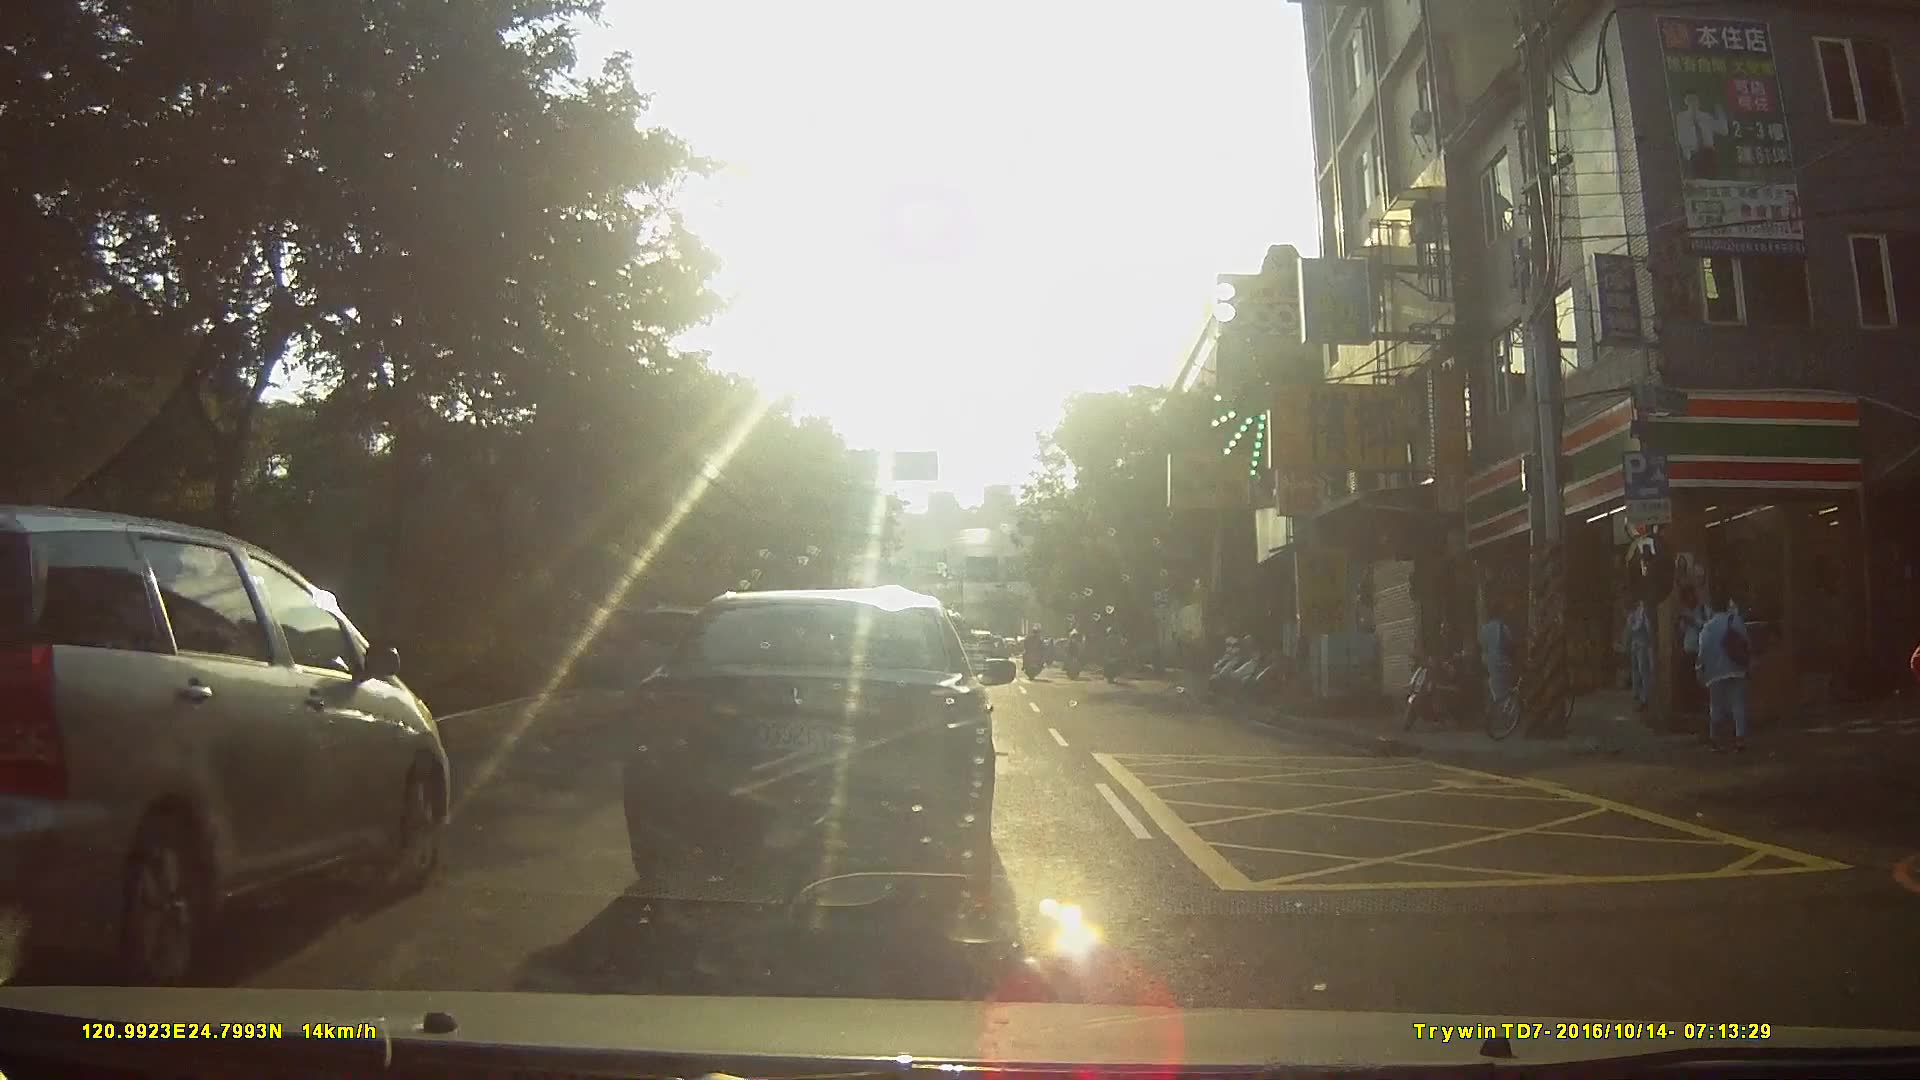pedestrian: (1699, 588, 1758, 752), (1474, 604, 1527, 717), (1683, 572, 1719, 711), (1618, 583, 1655, 708)
rider: (1062, 623, 1090, 684), (1022, 627, 1052, 681), (1100, 624, 1125, 688)
vehicle: (1, 515, 494, 959), (588, 576, 1031, 903)
